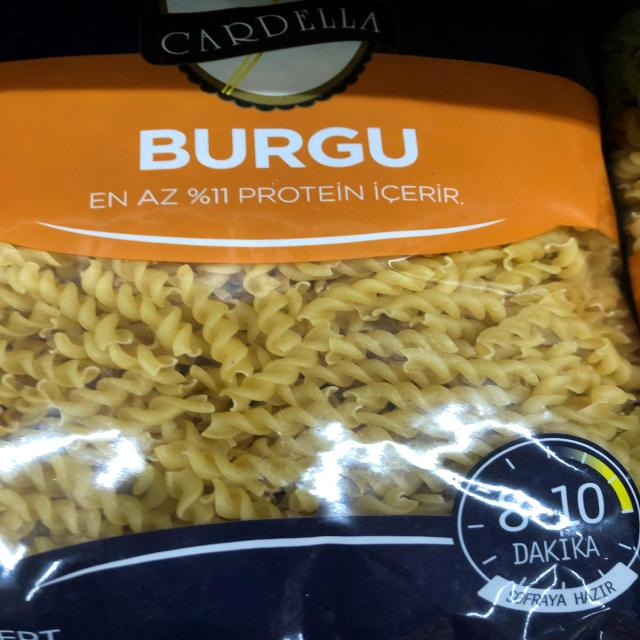fusilli pasta: (5, 3, 640, 640)
